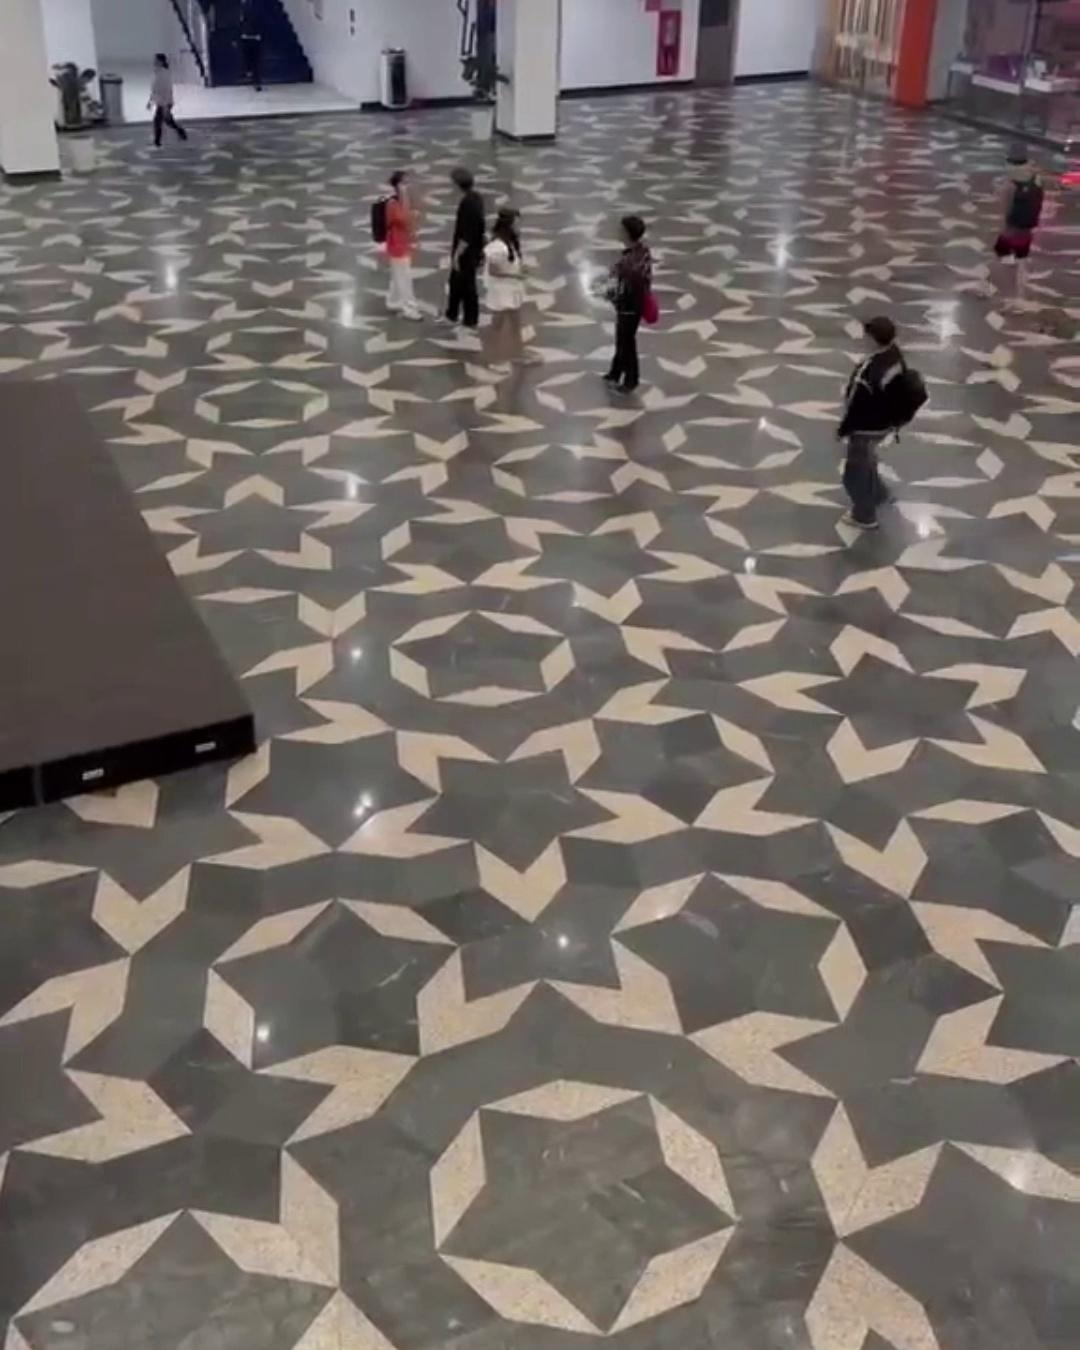your_class: (835, 314, 927, 530), (597, 217, 659, 399), (484, 206, 533, 370), (370, 170, 423, 321), (995, 153, 1047, 303), (443, 166, 485, 327), (144, 52, 187, 150), (230, 2, 264, 93)
